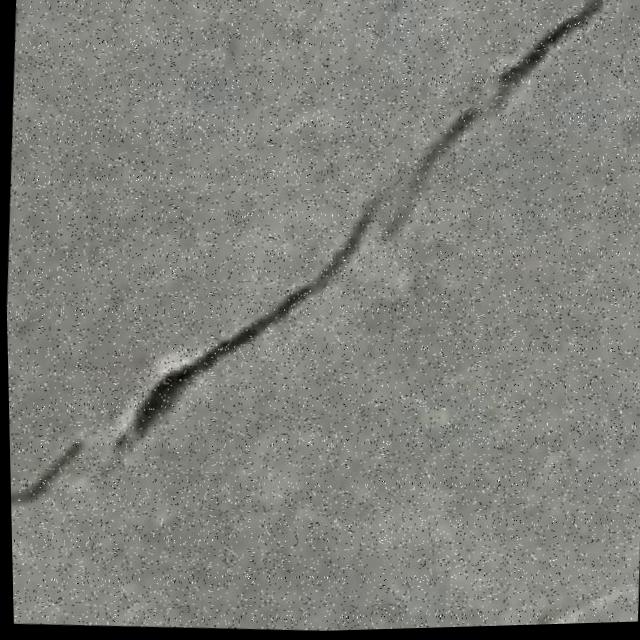Crack: (0, 0, 624, 550)
